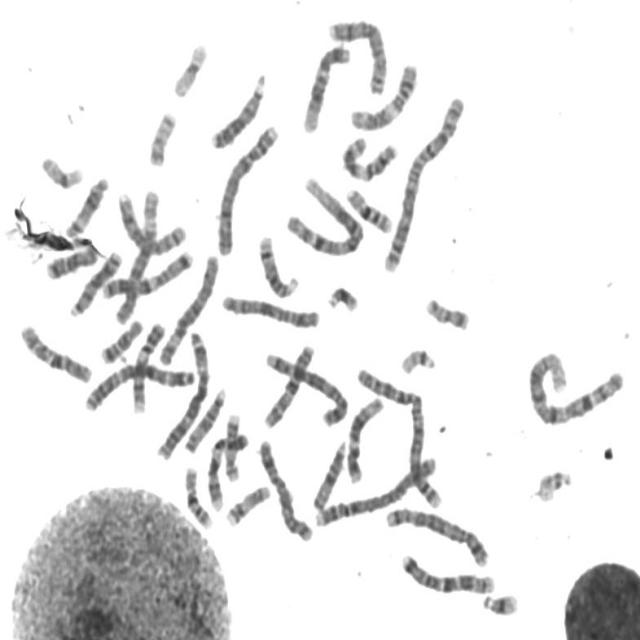A1: (524, 344, 627, 428), (281, 170, 367, 258)
A2: (379, 88, 469, 274), (354, 359, 444, 512)
A3: (154, 324, 213, 460), (80, 354, 201, 414)
B4: (311, 449, 441, 530), (212, 116, 282, 258)
B5: (382, 499, 493, 570), (262, 344, 351, 429)
C10: (15, 317, 96, 386), (260, 338, 318, 430)
C11: (346, 55, 422, 133), (338, 128, 401, 184)
C12: (299, 36, 353, 134), (343, 390, 387, 484)
C6: (156, 246, 222, 366), (111, 182, 163, 326)
C7: (100, 243, 196, 301), (397, 546, 499, 596)
C8: (323, 11, 391, 96), (114, 186, 188, 257)
C9: (204, 423, 252, 512), (128, 314, 168, 414)
D13: (207, 65, 269, 151), (65, 243, 125, 318)
D14: (63, 169, 112, 238), (255, 228, 301, 299)
D15: (181, 382, 229, 454), (310, 434, 350, 513)
E16: (342, 180, 396, 234), (181, 459, 216, 530)
E17: (222, 478, 273, 528), (220, 407, 243, 483)
E18: (97, 312, 146, 366), (42, 241, 100, 282)
F19: (168, 35, 211, 99), (37, 149, 86, 191)
F20: (144, 103, 180, 167), (421, 290, 472, 332)
G21: (479, 585, 522, 617), (324, 279, 362, 313)
G22: (533, 462, 576, 506), (397, 341, 439, 376)
X: (255, 433, 316, 544), (218, 287, 324, 331)
